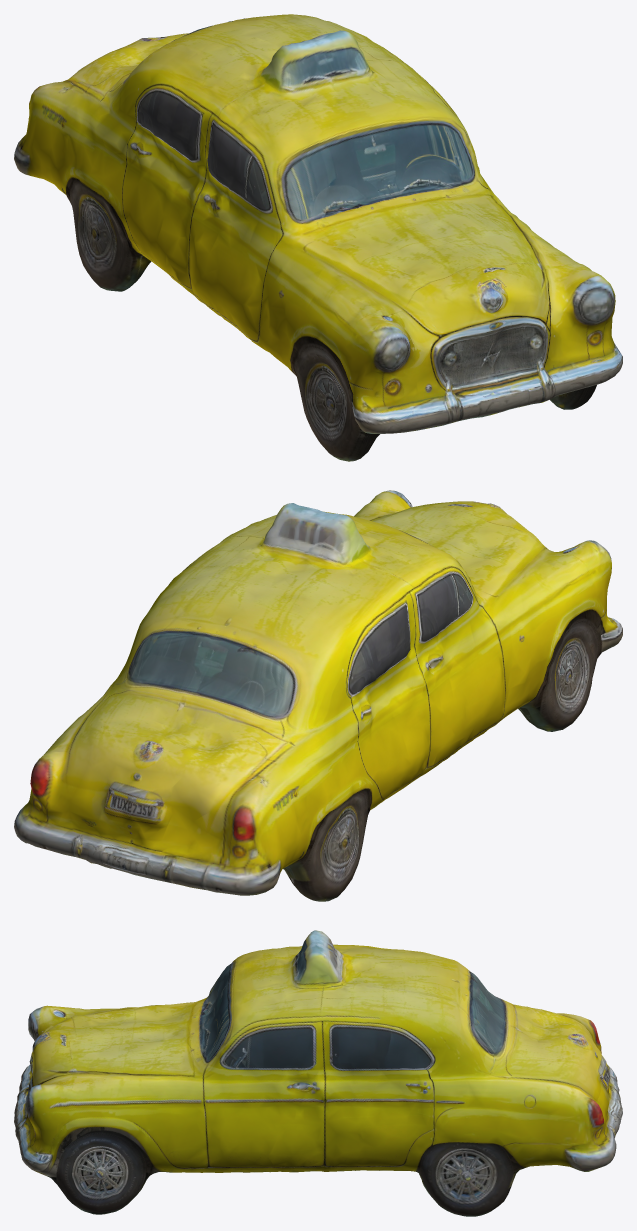
File: Kolkata_s_yellow_taxi_0805110611_refine.obj
The picture shows the model from 3 angles, top to bottom: view 1: azimuth 30°, elevation 25°; view 2: azimuth 150°, elevation 25°; view 3: azimuth 270°, elevation 25°; orthographic projection. The views are drawn at different scales.
Visible parts, largest first — view 1: Mesh_0; view 2: Mesh_0; view 3: Mesh_0.
Part boxes in pixels (bbox=[...]): Mesh_0: bbox=[14, 14, 622, 461]; Mesh_0: bbox=[14, 490, 622, 901]; Mesh_0: bbox=[14, 930, 622, 1216].
Size of the model in its own units: 0.474 by 0.5039 by 1.2.
Materials: 1 (1 with a texture image).
